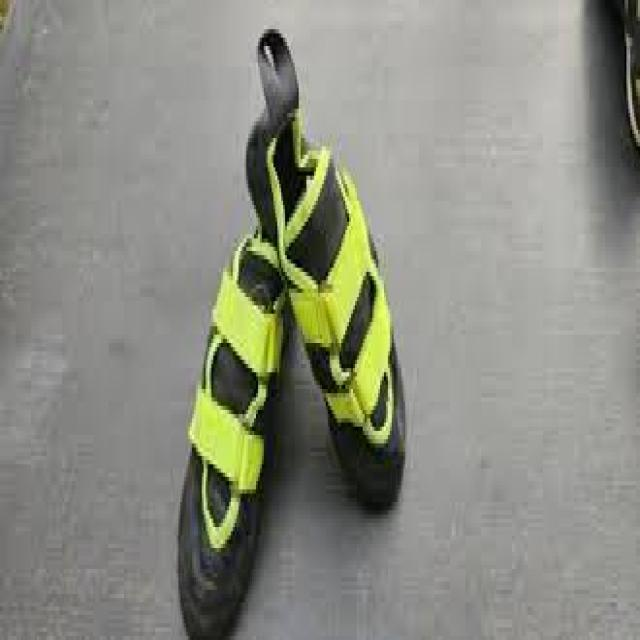climbing-shoes: (248, 28, 407, 512), (177, 222, 286, 636)
